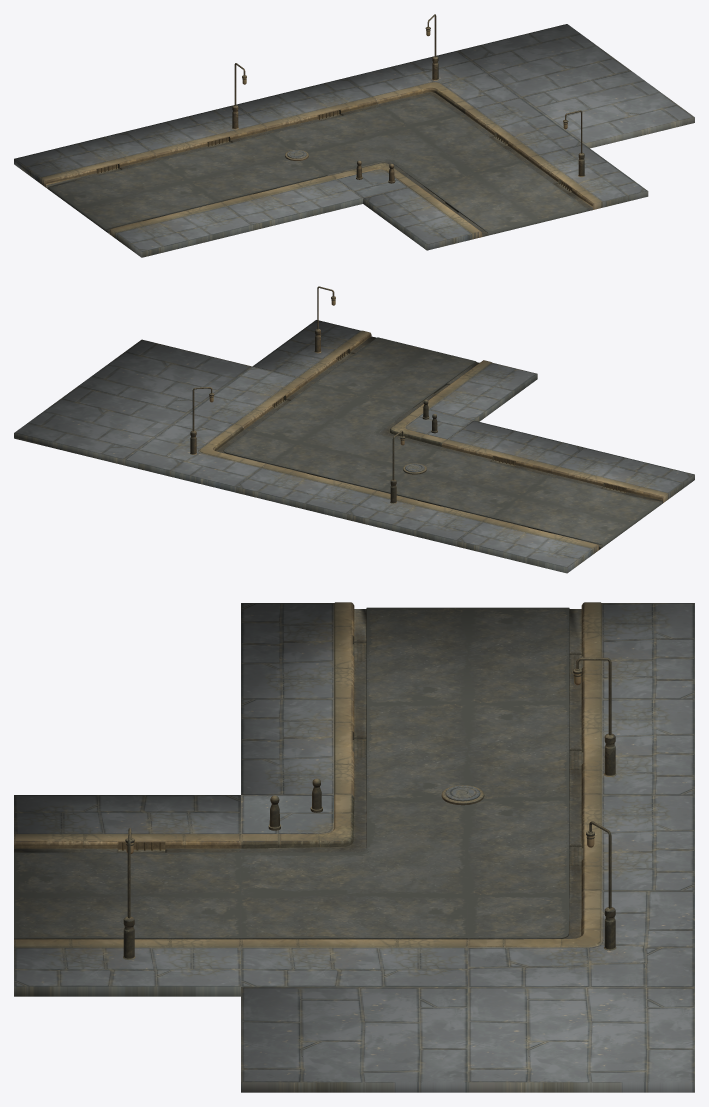
File: street.fbx
The picture shows the model from 3 angles, top to bottom: view 1: azimuth 30°, elevation 25°; view 2: azimuth 150°, elevation 25°; view 3: azimuth 270°, elevation 25°; orthographic projection. The views are drawn at different scales.
Visible parts, largest first — view 1: streetstraight_6; view 2: streetstraight_6; view 3: streetstraight_6.
Part boxes in pixels (x1,y1,x2,y2): streetstraight_6: (14,14,694,257); streetstraight_6: (14,286,694,573); streetstraight_6: (14,602,694,1092).
Bounding box in the file's own units: 4000 × 492 × 2400.
